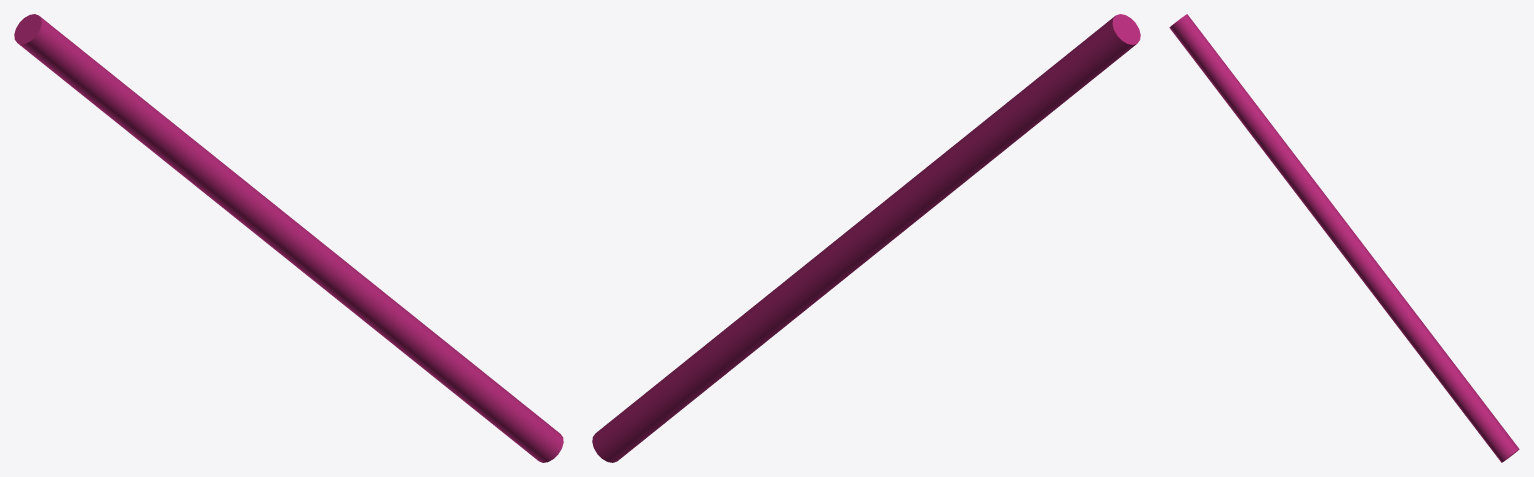
Rendered from front.dae.
3 views of the same model, side by side, from view 1: azimuth 30°, elevation 25°; view 2: azimuth 150°, elevation 25°; view 3: azimuth 330°, elevation 25° (orthographic). The views are drawn at different scales.
Visible parts, largest first — view 1: beam1; view 2: beam1; view 3: beam1.
Boxes of the visible parts, left/top/right/bottom form: beam1: left=14, top=14, right=563, bottom=462; beam1: left=592, top=14, right=1140, bottom=462; beam1: left=1169, top=14, right=1519, bottom=462.
Size of the model in its own units: 10.19 by 10.19 by 0.733.
